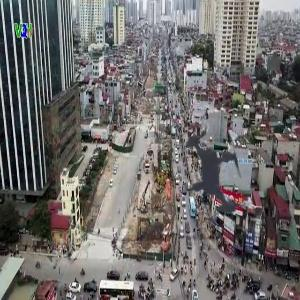drone: (138, 94, 290, 246)
